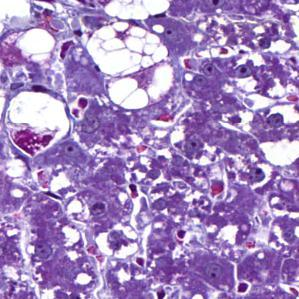ballooning: (84, 20, 178, 112), (4, 87, 72, 161), (99, 3, 175, 23)
